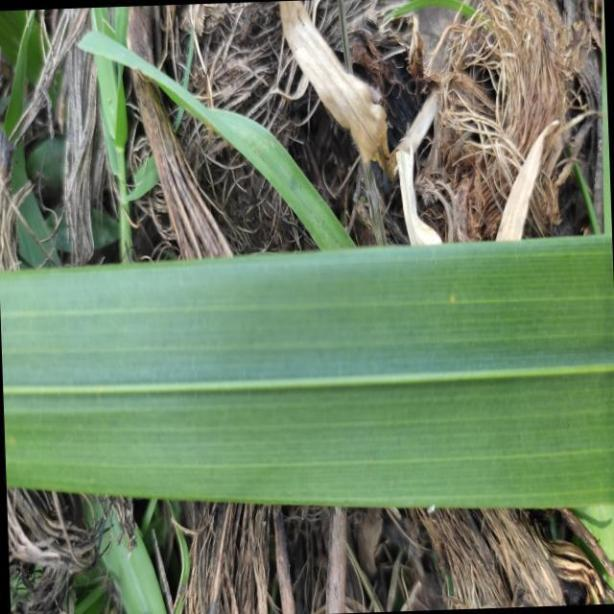Healthy: (0, 235, 614, 512)
